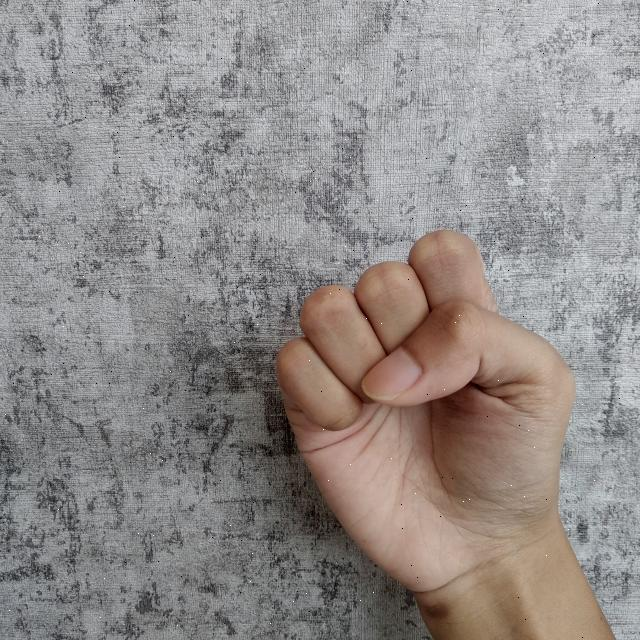S: (271, 217, 620, 640)
